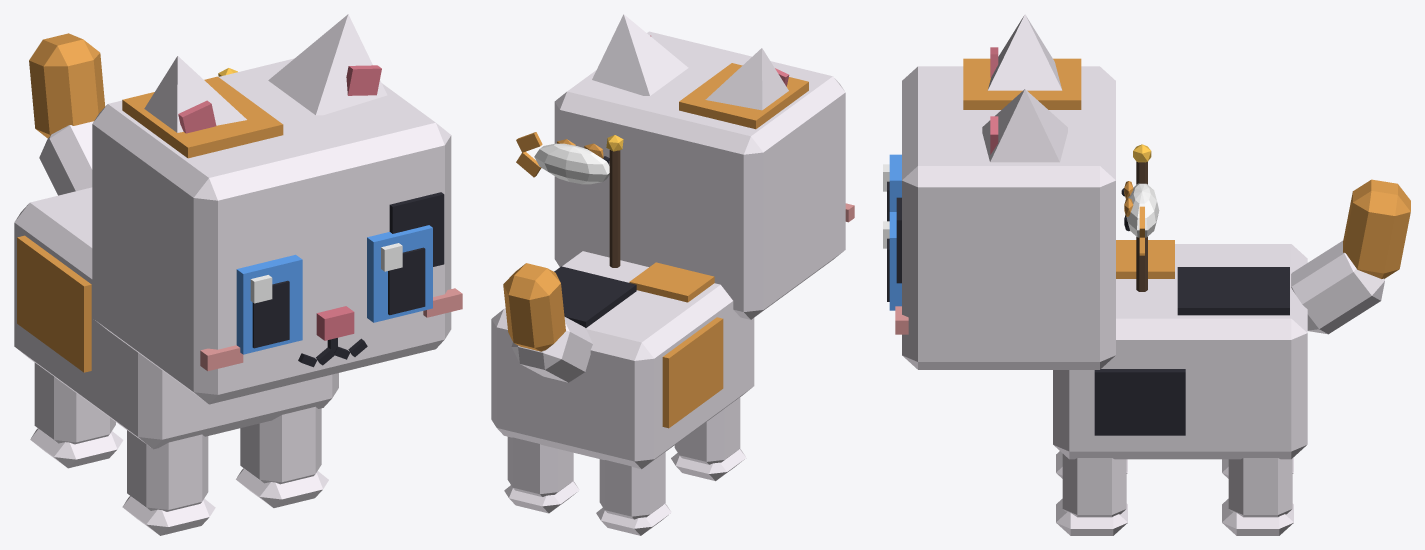
Rendered from CatCafe_Cat_Koi.glb.
3 views of the same model, side by side, from view 1: azimuth 30°, elevation 25°; view 2: azimuth 150°, elevation 25°; view 3: azimuth 270°, elevation 25° (orthographic). The views are drawn at different scales.
Parts seen in each view (by area): view 1: CatCafe_Cat_Koi_Head, CatCafe_Cat_Koi_Body, CatCafe_Cat_Koi_Tail, CatCafe_Cat_Koi_LegF2, CatCafe_Cat_Koi_LegF1, CatCafe_Cat_Koi_EarL, CatCafe_Cat_Koi_Eye2, CatCafe_Cat_Koi_LegB2, CatCafe_Cat_Koi_Eye1, CatCafe_Cat_Koi_EarR; view 2: CatCafe_Cat_Koi_Head, CatCafe_Cat_Koi_Body, CatCafe_Cat_Koi_Tail, CatCafe_Cat_Koi_Prop, CatCafe_Cat_Koi_LegB2, CatCafe_Cat_Koi_EarL, CatCafe_Cat_Koi_LegB1, CatCafe_Cat_Koi_LegF2, CatCafe_Cat_Koi_EarR; view 3: CatCafe_Cat_Koi_Head, CatCafe_Cat_Koi_Body, CatCafe_Cat_Koi_Tail, CatCafe_Cat_Koi_LegF1, CatCafe_Cat_Koi_LegB1, CatCafe_Cat_Koi_EarL, CatCafe_Cat_Koi_EarR, CatCafe_Cat_Koi_Prop, CatCafe_Cat_Koi_Eye1, CatCafe_Cat_Koi_Eye2.
Part boxes in pixels (box(x1,y1,x2,y2)): CatCafe_Cat_Koi_Head: box(92, 58, 462, 404); CatCafe_Cat_Koi_Body: box(14, 187, 338, 449); CatCafe_Cat_Koi_Tail: box(29, 33, 105, 195); CatCafe_Cat_Koi_LegF2: box(122, 430, 215, 535); CatCafe_Cat_Koi_LegF1: box(236, 406, 328, 507); CatCafe_Cat_Koi_EarL: box(268, 14, 387, 115); CatCafe_Cat_Koi_Eye2: box(236, 254, 302, 354); CatCafe_Cat_Koi_LegB2: box(30, 362, 123, 468); CatCafe_Cat_Koi_Eye1: box(367, 225, 432, 322); CatCafe_Cat_Koi_EarR: box(144, 56, 246, 133); CatCafe_Cat_Koi_Head: box(554, 31, 854, 319); CatCafe_Cat_Koi_Body: box(491, 251, 754, 469); CatCafe_Cat_Koi_Tail: box(503, 263, 592, 382); CatCafe_Cat_Koi_Prop: box(516, 132, 623, 267); CatCafe_Cat_Koi_LegB2: box(596, 452, 671, 535); CatCafe_Cat_Koi_EarL: box(592, 14, 688, 95); CatCafe_Cat_Koi_LegB1: box(504, 437, 579, 513); CatCafe_Cat_Koi_LegF2: box(671, 397, 746, 481); CatCafe_Cat_Koi_EarR: box(705, 48, 789, 110); CatCafe_Cat_Koi_Head: box(895, 58, 1115, 369); CatCafe_Cat_Koi_Body: box(1053, 240, 1307, 459); CatCafe_Cat_Koi_Tail: box(1291, 179, 1410, 334); CatCafe_Cat_Koi_LegF1: box(1056, 454, 1127, 535); CatCafe_Cat_Koi_LegB1: box(1222, 458, 1293, 535); CatCafe_Cat_Koi_EarL: box(982, 89, 1067, 162); CatCafe_Cat_Koi_EarR: box(987, 14, 1062, 90); CatCafe_Cat_Koi_Prop: box(1121, 144, 1159, 291); CatCafe_Cat_Koi_Eye1: box(883, 212, 901, 310); CatCafe_Cat_Koi_Eye2: box(883, 154, 901, 221).
Size of the model in its own units: 1.09 by 1.86 by 1.97.
Materials: 1 (1 with a texture image).
